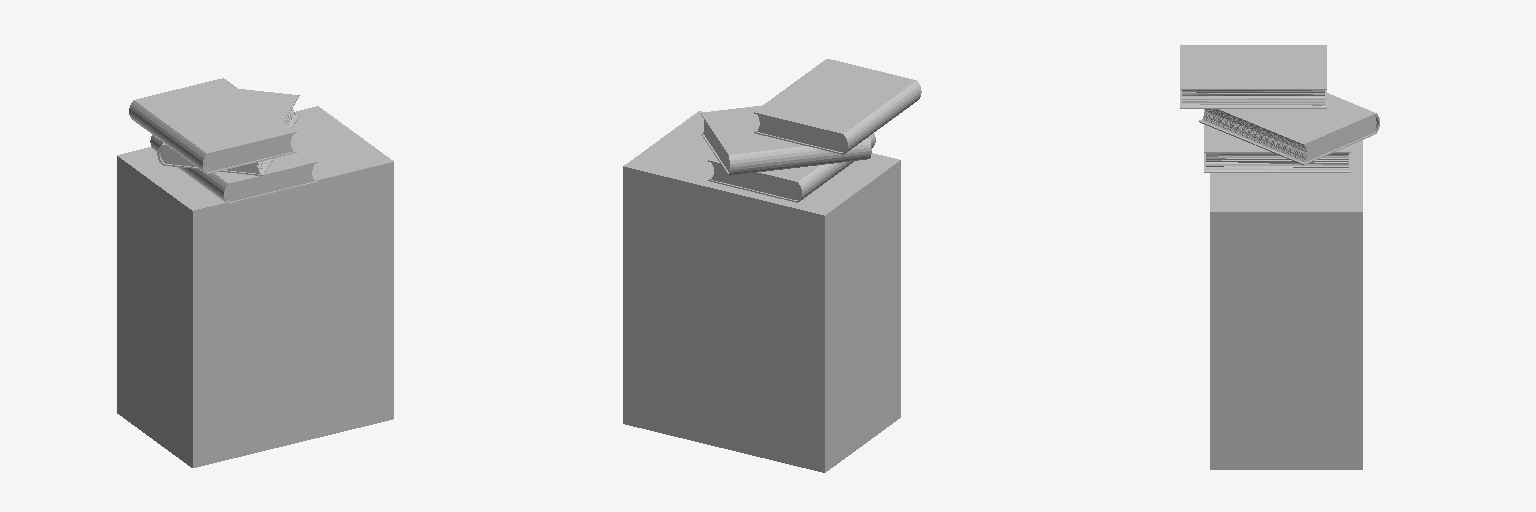
The model's file is librero.obj.
The picture shows the model from 3 angles: view 1: azimuth 30°, elevation 25°; view 2: azimuth 150°, elevation 25°; view 3: azimuth 270°, elevation 25°; orthographic projection.
Parts seen in each view (by area): view 1: pasted__pCube4 group16, Book7:Mesh pasted__group19 group22, Book3:Mesh group18, Book1:Mesh; view 2: pasted__pCube4 group16, Book7:Mesh pasted__group19 group22, Book1:Mesh, Book3:Mesh group18; view 3: pasted__pCube4 group16, Book7:Mesh pasted__group19 group22, Book1:Mesh, Book3:Mesh group18.
Boxes of the visible parts, x1,y1,x2,y2 form: pasted__pCube4 group16: [117, 106, 393, 467]; Book7:Mesh pasted__group19 group22: [129, 78, 296, 174]; Book3:Mesh group18: [150, 135, 317, 204]; Book1:Mesh: [157, 89, 299, 175]; pasted__pCube4 group16: [623, 111, 900, 472]; Book7:Mesh pasted__group19 group22: [754, 59, 921, 154]; Book1:Mesh: [701, 105, 871, 175]; Book3:Mesh group18: [708, 133, 875, 202]; pasted__pCube4 group16: [1210, 140, 1362, 469]; Book7:Mesh pasted__group19 group22: [1180, 45, 1326, 108]; Book1:Mesh: [1199, 93, 1379, 164]; Book3:Mesh group18: [1204, 109, 1350, 172].
Size of the model in its own units: 1.96 by 2.95 by 1.64.